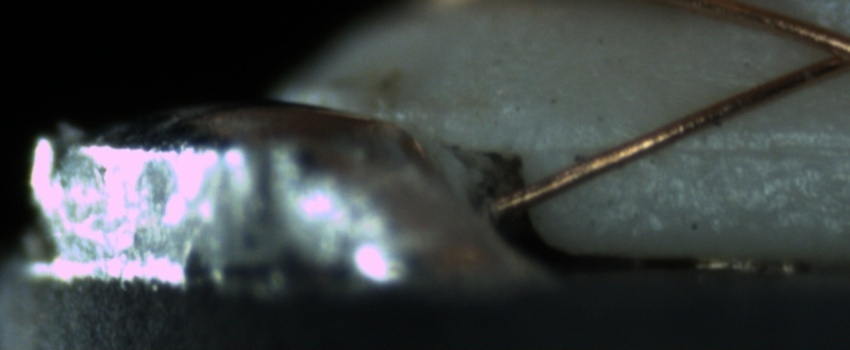CL: (795, 19, 849, 80)
DL: (567, 117, 848, 178)
